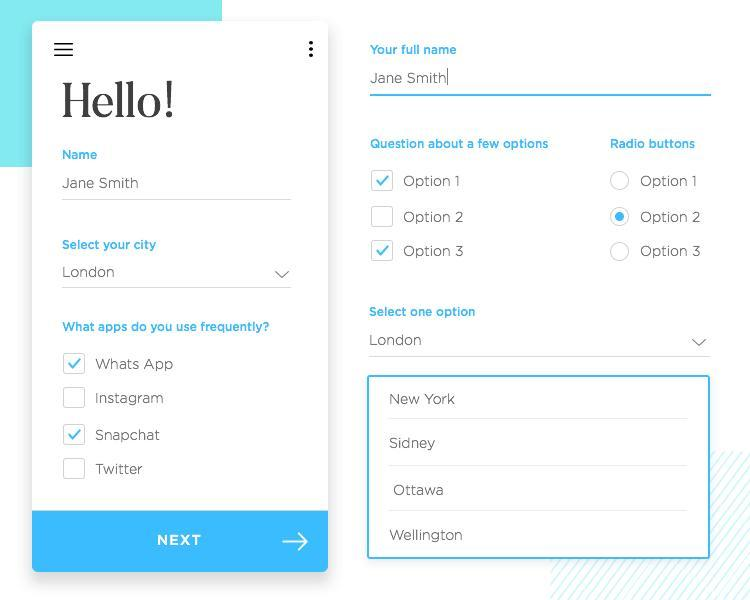button: (32, 511, 330, 574)
checkbox: (370, 169, 397, 195), (63, 350, 88, 377), (63, 423, 88, 450), (63, 386, 88, 411), (371, 206, 397, 230), (62, 458, 87, 482), (371, 241, 396, 264)
icon: (52, 40, 79, 62), (690, 337, 710, 352), (307, 38, 318, 64), (275, 268, 294, 282)
label: (60, 319, 271, 338), (369, 138, 556, 154), (368, 304, 476, 325), (371, 40, 460, 61), (603, 137, 701, 153), (94, 425, 165, 446), (93, 358, 178, 375), (91, 391, 166, 410), (94, 458, 158, 480), (403, 242, 468, 260), (402, 208, 466, 226), (640, 244, 706, 260), (401, 174, 462, 190), (641, 175, 701, 191), (638, 212, 701, 225), (59, 149, 106, 164)
radio: (609, 170, 633, 194), (610, 205, 633, 227), (610, 243, 632, 265)
